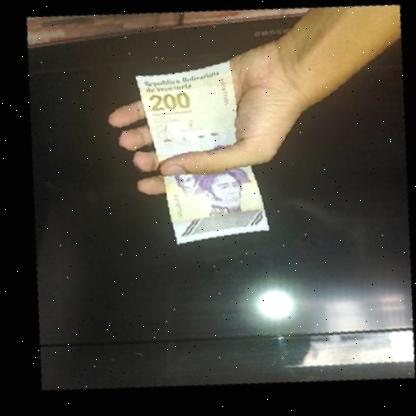two_hundred-front-vef: (109, 46, 291, 262)
